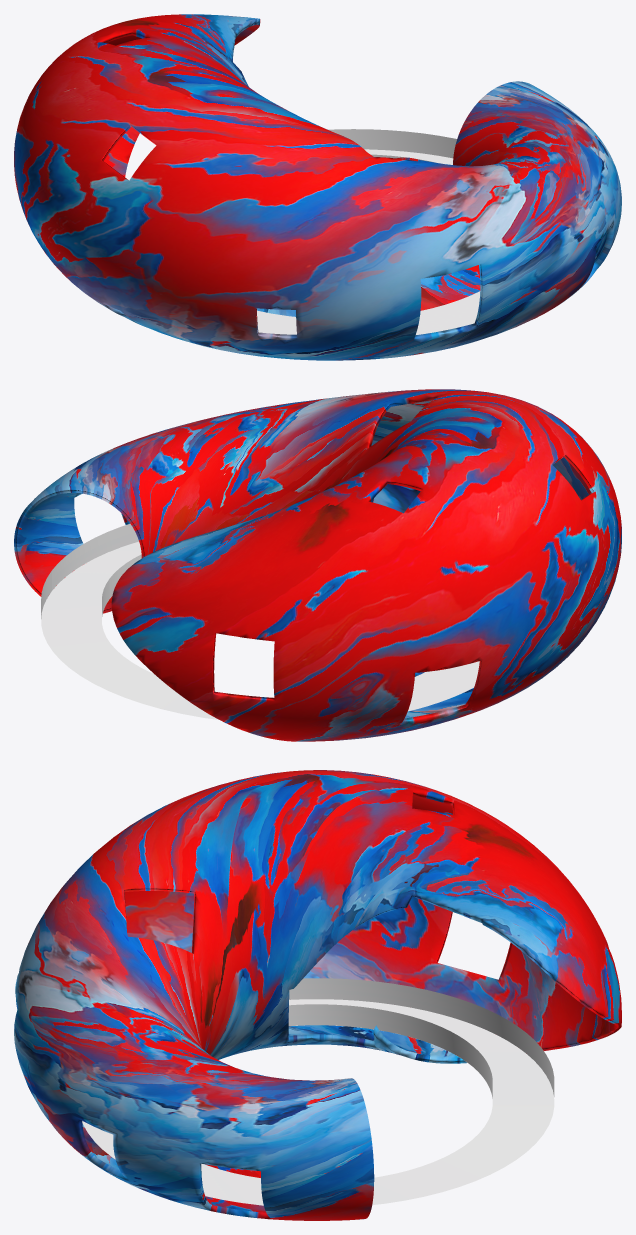
3 renders of one model, top to bottom at view 1: azimuth 30°, elevation 25°; view 2: azimuth 150°, elevation 25°; view 3: azimuth 270°, elevation 25°, orthographic. The views are drawn at different scales.
Parts seen in each view (by area): view 1: Solids, Ramps_2, Ramps; view 2: Solids, Ramps_2, Ramps; view 3: Solids, Ramps_2, Ramps.
Boxes of the visible parts, x1,y1,x2,y2 form: Solids: (14, 14, 621, 360); Ramps_2: (257, 149, 480, 334); Ramps: (328, 129, 456, 162); Solids: (14, 389, 621, 741); Ramps_2: (41, 541, 479, 719); Ramps: (41, 524, 141, 618); Solids: (14, 770, 621, 1220); Ramps_2: (82, 999, 554, 1205); Ramps: (288, 978, 554, 1098).
Size of the model in its own units: 41.44 by 17.8 by 39.39.
Materials: 2 (2 with a texture image).
